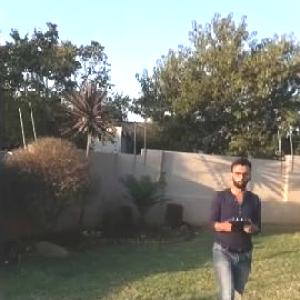follow: (204, 144, 266, 299)
